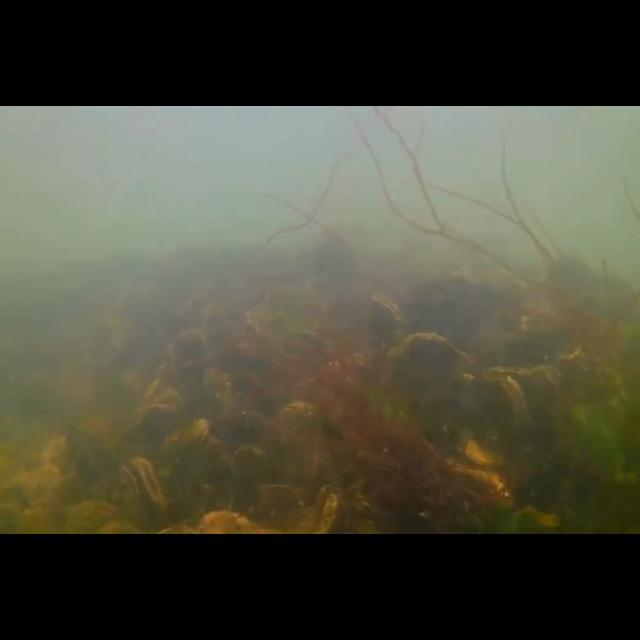Oyster-Closed: (369, 333, 473, 403), (458, 371, 530, 439), (487, 362, 563, 426), (224, 443, 282, 523), (170, 328, 210, 412), (272, 398, 321, 464), (448, 461, 516, 503), (142, 346, 178, 418), (200, 364, 238, 424), (65, 498, 119, 534), (464, 436, 510, 468)
Oyster-Open: (108, 454, 172, 534), (370, 293, 410, 361), (161, 418, 211, 460), (312, 484, 346, 534), (134, 390, 186, 422)
